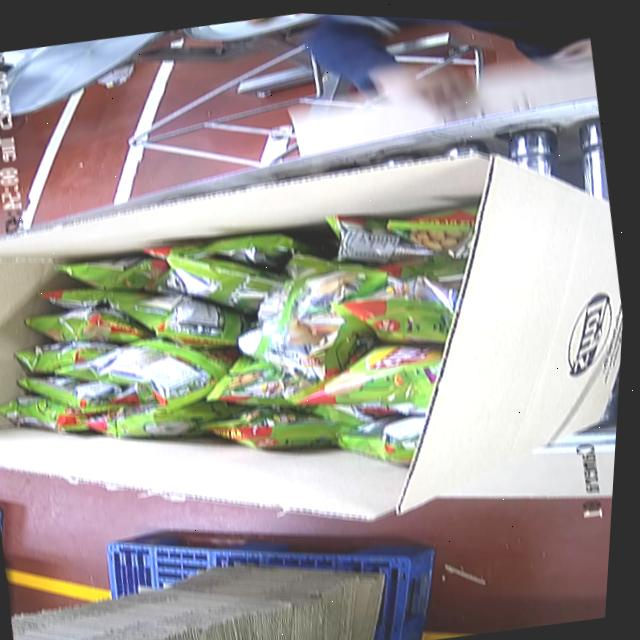YOGURT_HERB: (0, 174, 519, 537)
